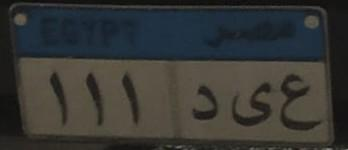1: (44, 65, 73, 127), (80, 71, 110, 130), (118, 70, 145, 130)
ain: (275, 68, 320, 135)
daal: (188, 78, 220, 123)
yaa: (227, 79, 274, 130)
